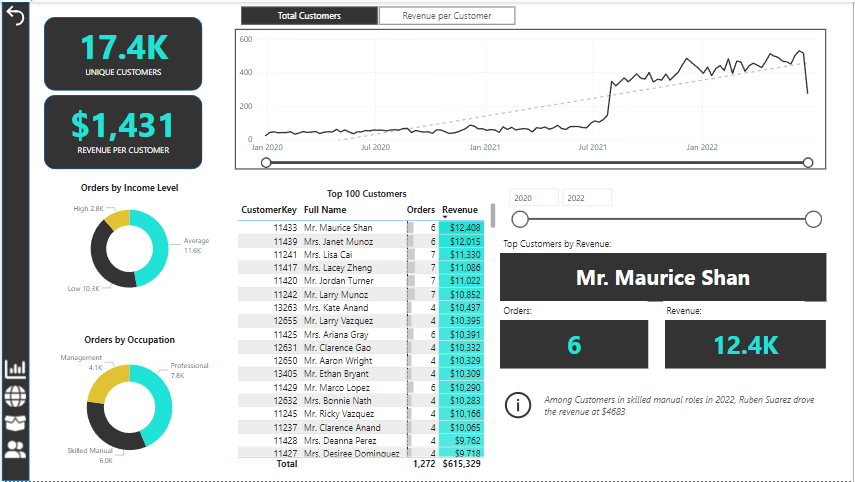

What the dashboard file says about the page in this screenshot:
{"tool":"powerbi","page":{"name":"Customer Detail","canvas":[1280,720],"ordinal":3},"visuals":[{"type":"shape","box":[0,0,41.2,720],"z":0},{"type":"shape","box":[63.9,21.9,238.4,110.7],"z":1000},{"type":"actionButton","box":[0,573.5,41.2,40.3],"z":1000,"group":"g1"},{"type":"actionButton","box":[0,533.2,41.2,40.3],"z":2000,"group":"g1"},{"type":"card","fields":{"Values":["Measure Table.Total Customers"]},"box":[63.9,21.9,238.4,98.8],"z":2000},{"type":"actionButton","box":[0,654.1,41.2,40.3],"z":3000,"group":"g1"},{"type":"shape","box":[63.9,139.7,238.4,111.7],"z":3000},{"type":"actionButton","box":[0,613.8,41.2,40.3],"z":4000,"group":"g1"},{"type":"card","fields":{"Values":["Measure Table.Average Revenue per Customer"]},"box":[63.9,139.7,238.4,100.8],"z":4000},{"type":"lineChart","fields":{"Y":["Measure Table.Total Customers"],"Category":["Calendar Lookup.Date Hierarchy.Year","Calendar Lookup.Date Hierarchy.Start of Month","Calendar Lookup.Date Hierarchy.Start of Week","Calendar Lookup.Date Hierarchy.Date"]},"box":[350.1,40.3,889.3,211.3],"z":5000},{"type":"donutChart","title":"Orders by Income Level","fields":{"Y":["Measure Table.Total Orders"],"Category":["Customer Lookup.Income Level"]},"box":[63.9,270.4,257.4,183.6],"z":6000},{"type":"donutChart","title":"Orders by Occupation","fields":{"Y":["Measure Table.Total Orders"],"Category":["Customer Lookup.Occupation"]},"box":[63.9,498.8,257.4,203.5],"z":7000},{"type":"tableEx","title":"Top 100 Customers","fields":{"Values":["Customer Lookup.CustomerKey","Customer Lookup.Full Name","Measure Table.Total Orders","Measure Table.Total Revenue"]},"box":[349.2,280.3,399.1,429],"z":8000},{"type":"card","fields":{"Values":["Measure Table.Full Name (Customer Detail)"]},"box":[748.4,376.9,490.8,72.8],"z":9000},{"type":"card","fields":{"Values":["Measure Table.Total Orders (Customer Detail)"]},"box":[749.2,477.7,223,73.2],"z":10000},{"type":"card","fields":{"Values":["Measure Table.Total Revenue (Customer Detail)"]},"box":[997.8,477.7,241.6,73.2],"z":11000},{"type":"textbox","box":[748.4,348.9,222.5,27.9],"z":12000},{"type":"textbox","box":[748.4,449.7,222.5,27.9],"z":13000},{"type":"textbox","box":[993.8,449.7,212.5,27.9],"z":14000},{"type":"slicer","fields":{"Values":["Calendar Lookup.Year"]},"box":[749.9,270.1,490.8,78.6],"z":15000},{"type":"actionButton","box":[749.9,580.5,490.8,51.4],"z":16000},{"type":"actionButton","box":[0,0,41.3,40.3],"z":17000},{"type":"group","id":"g1","title":"Navigation Buttons","box":[0,533.2,41.3,161.3],"z":18000},{"type":"slicer","fields":{"Values":["Customer Metric Selection.Customer Metric Selection"]},"box":[333.6,0,461.6,39.3],"z":19000}]}

Visuals, with their boxes on the page's 1280x720 design canvas (x1, y1, x2, y2). These are canvas units, not pixel positions in the 855x482 screenshot, which may show the page scaled, cropped or inside an application window:
shape: [x1=0, y1=0, x2=41, y2=720]
shape: [x1=64, y1=22, x2=302, y2=133]
actionButton: [x1=0, y1=574, x2=41, y2=614]
actionButton: [x1=0, y1=533, x2=41, y2=574]
card - Measure Table.Total Customers: [x1=64, y1=22, x2=302, y2=121]
actionButton: [x1=0, y1=654, x2=41, y2=694]
shape: [x1=64, y1=140, x2=302, y2=251]
actionButton: [x1=0, y1=614, x2=41, y2=654]
card - Measure Table.Average Revenue per Customer: [x1=64, y1=140, x2=302, y2=240]
lineChart - Measure Table.Total Customers x Calendar Lookup.Date Hierarchy.Year: [x1=350, y1=40, x2=1239, y2=252]
"Orders by Income Level" donutChart: [x1=64, y1=270, x2=321, y2=454]
"Orders by Occupation" donutChart: [x1=64, y1=499, x2=321, y2=702]
"Top 100 Customers" tableEx: [x1=349, y1=280, x2=748, y2=709]
card - Measure Table.Full Name (Customer Detail): [x1=748, y1=377, x2=1239, y2=450]
card - Measure Table.Total Orders (Customer Detail): [x1=749, y1=478, x2=972, y2=551]
card - Measure Table.Total Revenue (Customer Detail): [x1=998, y1=478, x2=1239, y2=551]
textbox: [x1=748, y1=349, x2=971, y2=377]
textbox: [x1=748, y1=450, x2=971, y2=478]
textbox: [x1=994, y1=450, x2=1206, y2=478]
slicer - Calendar Lookup.Year: [x1=750, y1=270, x2=1241, y2=349]
actionButton: [x1=750, y1=580, x2=1241, y2=632]
actionButton: [x1=0, y1=0, x2=41, y2=40]
"Navigation Buttons" group: [x1=0, y1=533, x2=41, y2=694]
slicer - Customer Metric Selection.Customer Metric Selection: [x1=334, y1=0, x2=795, y2=39]
